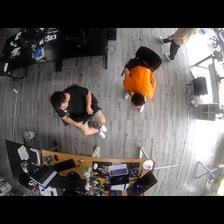normal: (48, 86, 107, 140), (120, 57, 161, 115)
